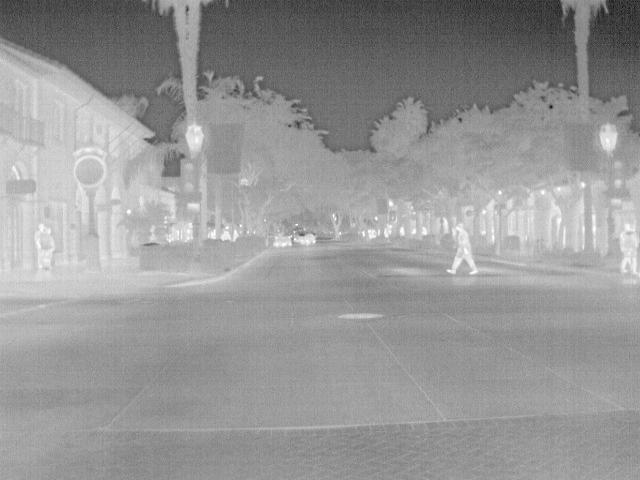car: (272, 233, 296, 251), (296, 228, 319, 246)
person: (443, 224, 480, 277), (619, 221, 640, 277), (34, 221, 47, 273), (44, 226, 58, 268)
